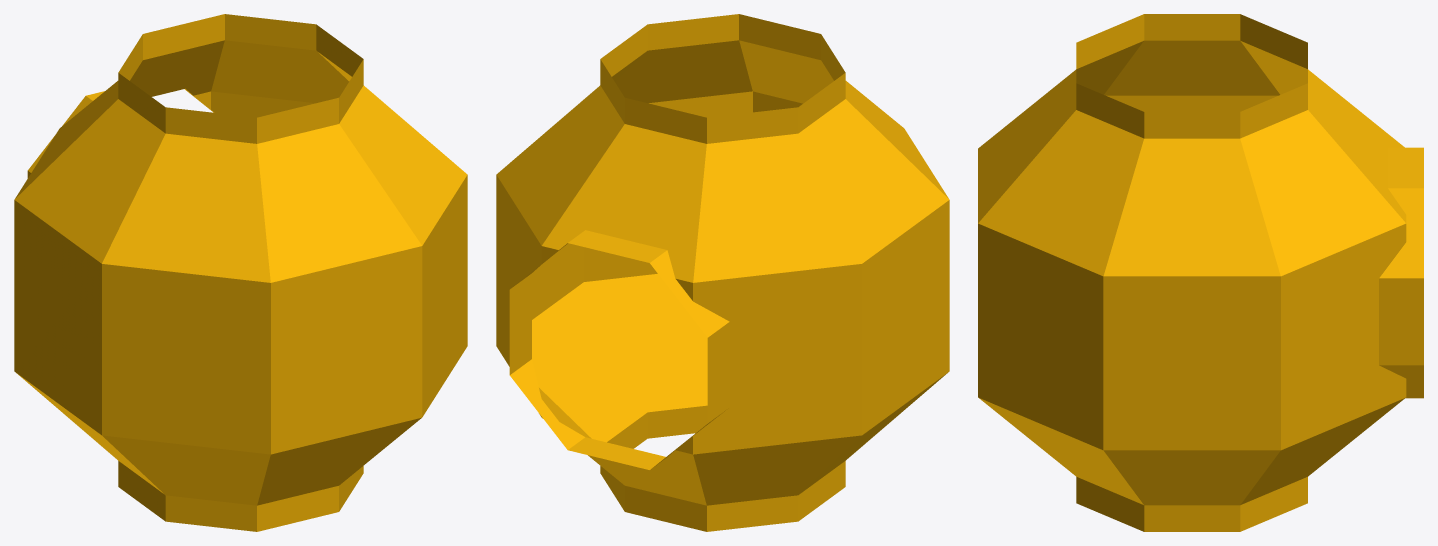
Rendered from turbocharger_paintable_small.dae.
The picture shows the model from 3 angles, left to right: view 1: azimuth 30°, elevation 25°; view 2: azimuth 150°, elevation 25°; view 3: azimuth 270°, elevation 25°; orthographic projection.
Parts seen in each view (by area): view 1: Cube; view 2: Cube; view 3: Cube.
Boxes of the visible parts, bbox=[...] form: Cube: bbox=[14, 14, 467, 531]; Cube: bbox=[496, 14, 949, 531]; Cube: bbox=[978, 14, 1423, 531].
Size of the model in its own units: 0.231 by 0.2405 by 0.25.
